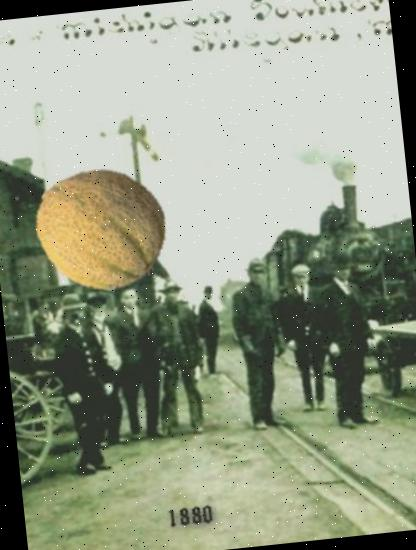Cantaloupe: (27, 154, 174, 302)
